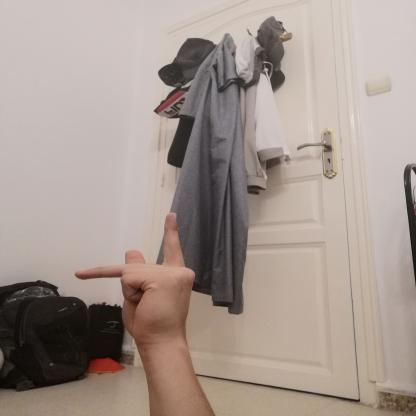DHAA: (61, 204, 208, 352)
